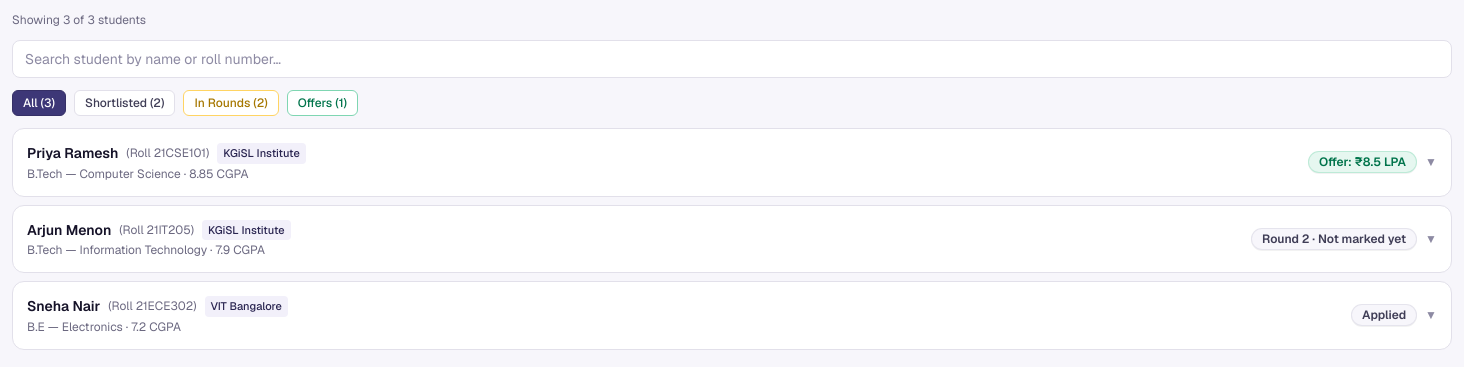
Test case: the one-role roster › lists the stage the coordinator asks about, not the whole cycle
Click the button "Offers (1)" at (322, 103), box [287, 90, 358, 116]
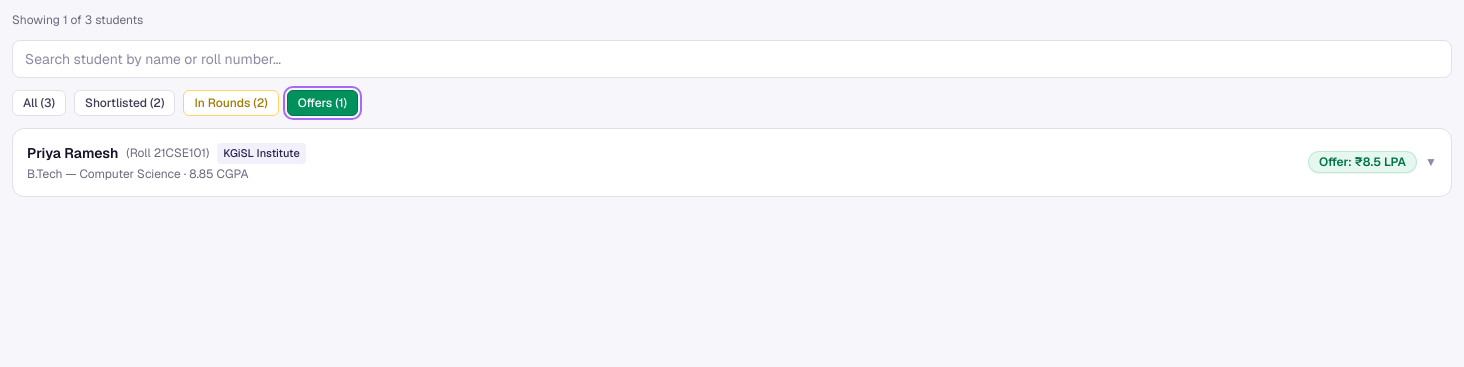
Expected: the text "Priya Ramesh" is shown, [27, 143, 118, 163]
Now the button "Arjun Menon" is gone
Now the button "Sneha Nair" is gone
Click the button "In Rounds (2)" at (231, 103), box [183, 90, 279, 116]
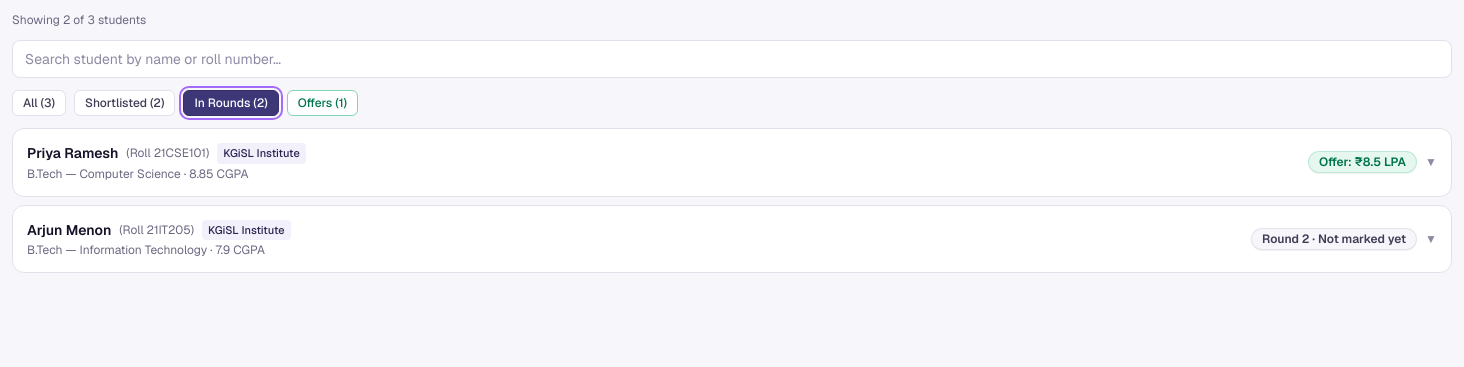
Expected: the text "Priya Ramesh" is shown, [27, 143, 118, 163]
Now the text "Arjun Menon" is shown, box [27, 220, 111, 240]
